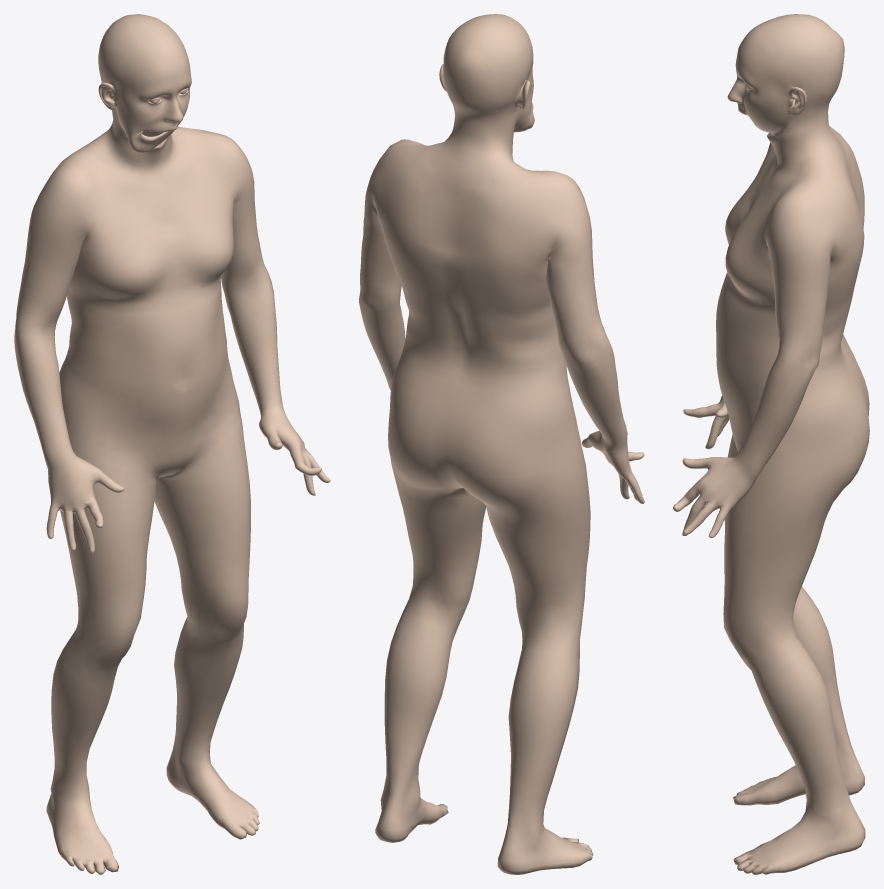
File: WORD-01231.glb
The picture shows the model from 3 angles, left to right: view 1: azimuth 30°, elevation 25°; view 2: azimuth 150°, elevation 25°; view 3: azimuth 270°, elevation 25°; orthographic projection. The views are drawn at different scales.
Size of the model in its own units: 0.5687 by 1.71 by 0.3757.
